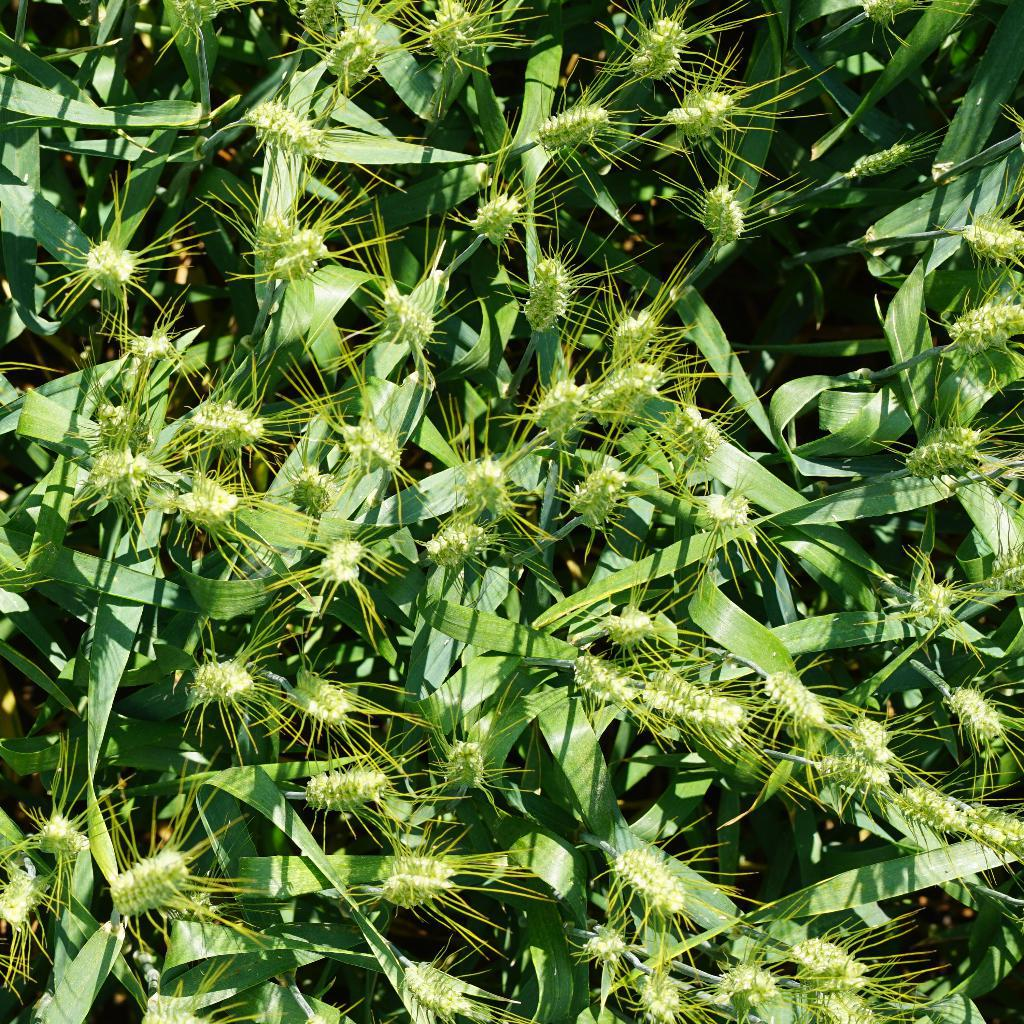0-0: (634, 668, 761, 739), (389, 952, 505, 1024), (600, 838, 698, 920), (296, 755, 397, 828), (103, 845, 212, 909), (759, 656, 838, 737), (316, 404, 403, 477), (518, 249, 578, 354), (929, 208, 1024, 274), (552, 635, 635, 709), (942, 668, 1009, 758), (568, 455, 643, 535), (365, 847, 453, 915), (933, 288, 1024, 353), (804, 757, 907, 814), (615, 17, 717, 74), (321, 6, 389, 90), (661, 77, 754, 138), (373, 277, 440, 361), (687, 178, 757, 258), (277, 662, 355, 733), (186, 392, 273, 455), (583, 364, 669, 427), (253, 212, 329, 283), (76, 233, 159, 298), (182, 651, 258, 721), (74, 397, 163, 456), (247, 100, 325, 167), (679, 481, 766, 539), (908, 419, 980, 489), (458, 444, 522, 522), (171, 468, 250, 531), (896, 568, 970, 634), (527, 97, 619, 150), (844, 130, 934, 183), (598, 307, 672, 369), (795, 931, 874, 989), (955, 798, 1024, 864), (528, 370, 588, 444), (419, 0, 484, 68), (896, 778, 970, 836), (75, 447, 157, 499), (429, 735, 499, 795), (587, 600, 664, 654), (667, 402, 728, 470), (114, 332, 189, 387), (707, 956, 778, 1012), (301, 538, 370, 594), (30, 799, 89, 863), (280, 467, 346, 523), (429, 514, 494, 570), (582, 920, 643, 978), (0, 848, 44, 926), (631, 967, 690, 1024), (847, 712, 903, 772), (473, 183, 524, 247), (819, 983, 894, 1024)
